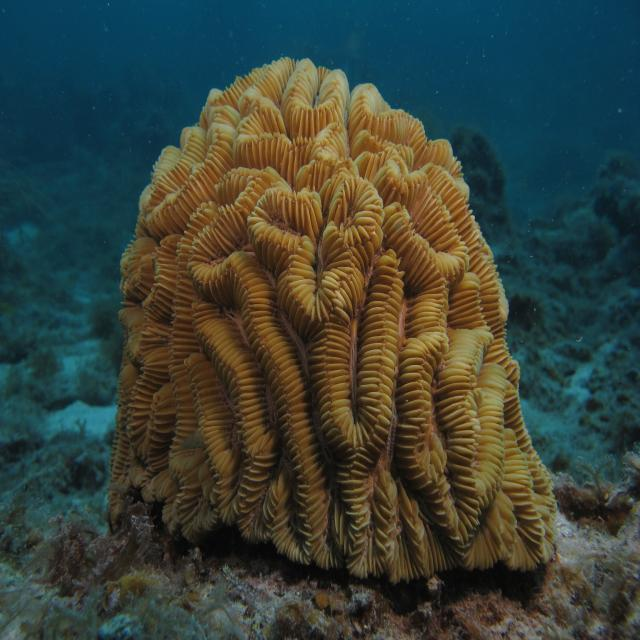Coral: (102, 55, 564, 581)
